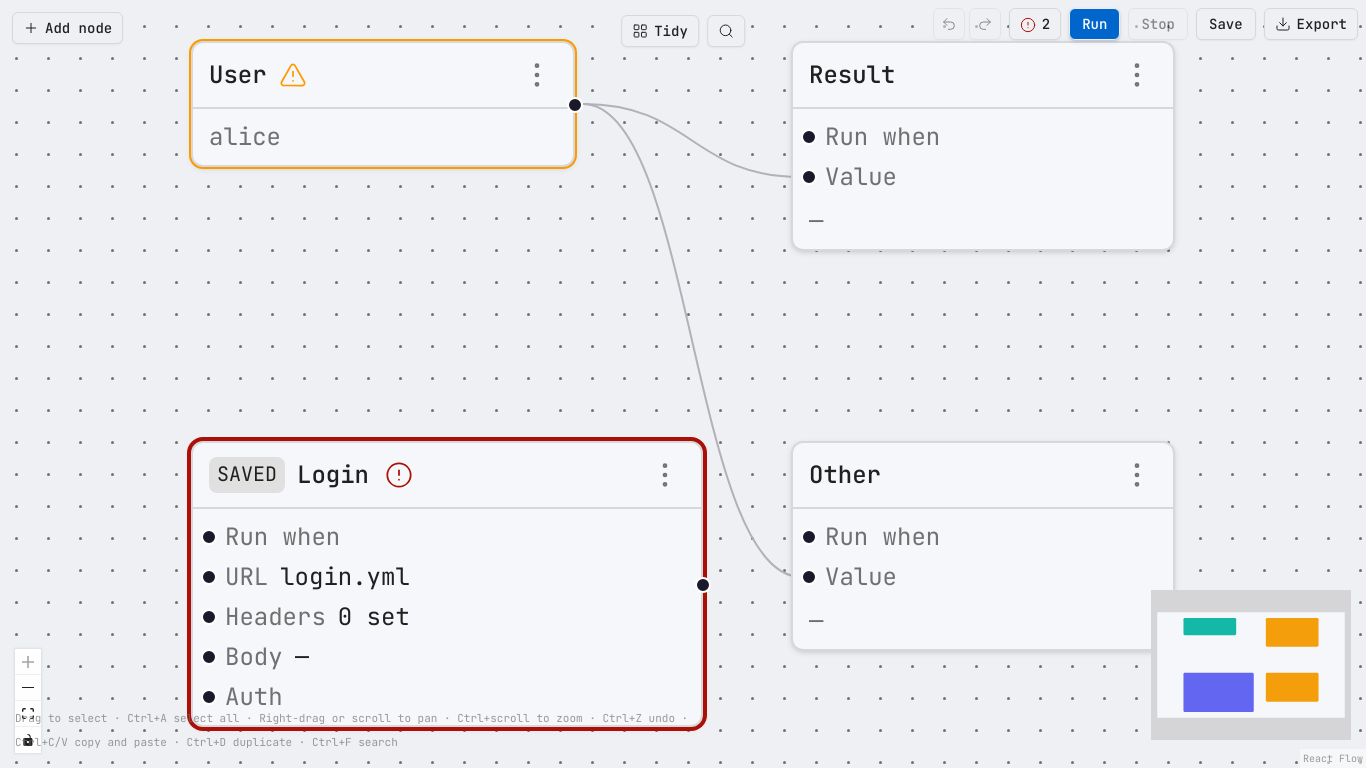
it: FlowPane backend lint feed › shows the dangling request and unknown variable lints in the issue list
Click the button named "1 error, 1 warning" at (1035, 24), box top-left (1009, 8), bottom-right (1061, 40)
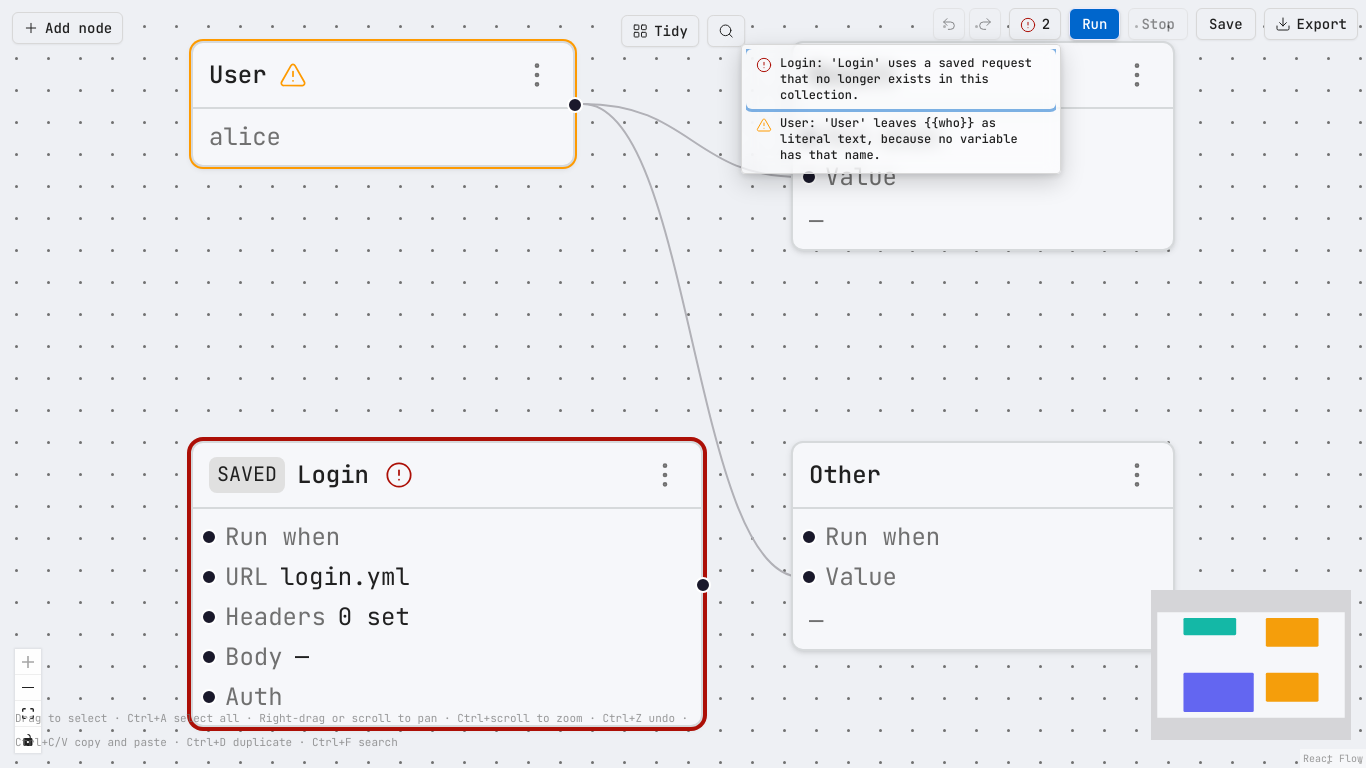
Check: the list named "Flow issues" shows "no longer exists in this collection", box top-left (746, 49), bottom-right (1056, 109)
Check: the list named "Flow issues" shows "{{who}} as literal text", box top-left (746, 109), bottom-right (1056, 169)
